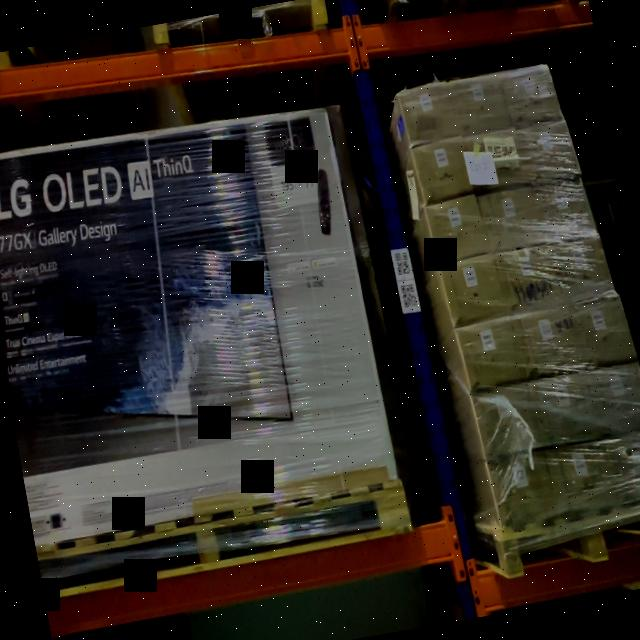box: (0, 109, 393, 545), (532, 372, 601, 444), (484, 453, 554, 523), (474, 382, 538, 458), (560, 440, 626, 512), (502, 245, 564, 312), (441, 256, 502, 324), (458, 320, 520, 386), (519, 308, 581, 374), (428, 194, 486, 262), (578, 294, 632, 365), (556, 233, 612, 300), (468, 128, 528, 190), (484, 186, 540, 252), (415, 136, 471, 200), (531, 178, 590, 238), (450, 72, 508, 132), (522, 118, 574, 182), (399, 82, 456, 140), (597, 361, 640, 433), (502, 65, 554, 122), (617, 426, 640, 500)
